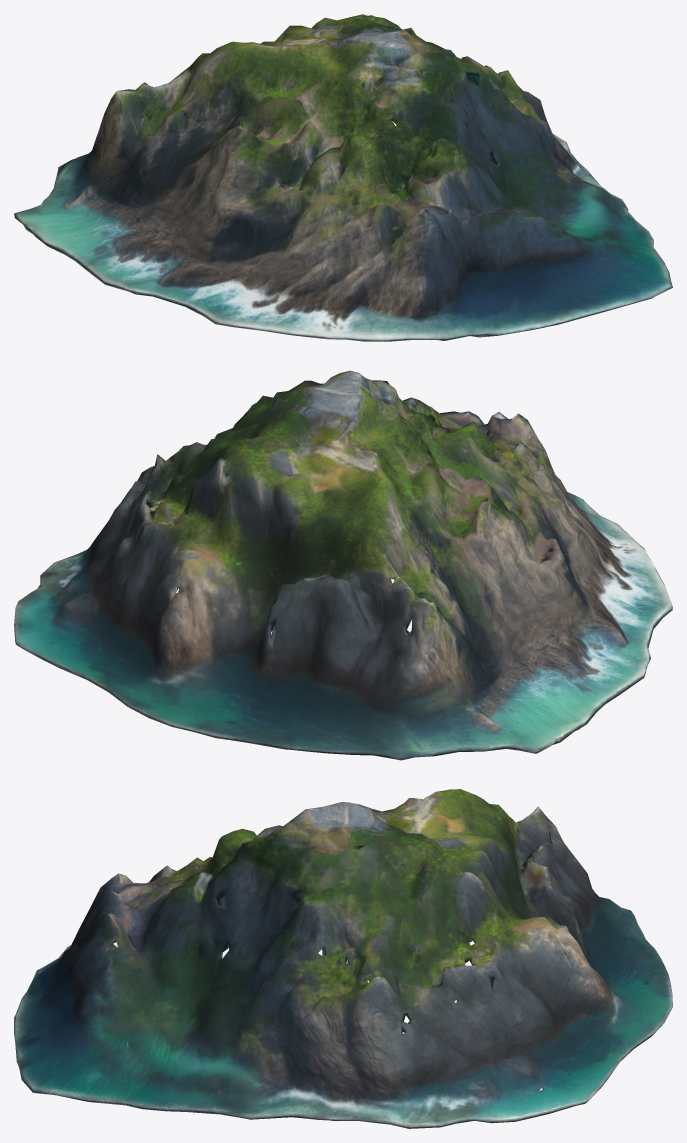
File: rocky_island_2.fbx
3 renders of one model, top to bottom at view 1: azimuth 30°, elevation 25°; view 2: azimuth 150°, elevation 25°; view 3: azimuth 270°, elevation 25°, orthographic. The views are drawn at different scales.
Parts seen in each view (by area): view 1: Mesh_0; view 2: Mesh_0; view 3: Mesh_0.
Part boxes in pixels (left/top/right/bottom): Mesh_0: left=14, top=14, right=672, bottom=341; Mesh_0: left=14, top=370, right=672, bottom=760; Mesh_0: left=14, top=789, right=672, bottom=1128.
Bounding box in the file's own units: 188 × 68.72 × 200.
Materials: 1 (1 with a texture image).
